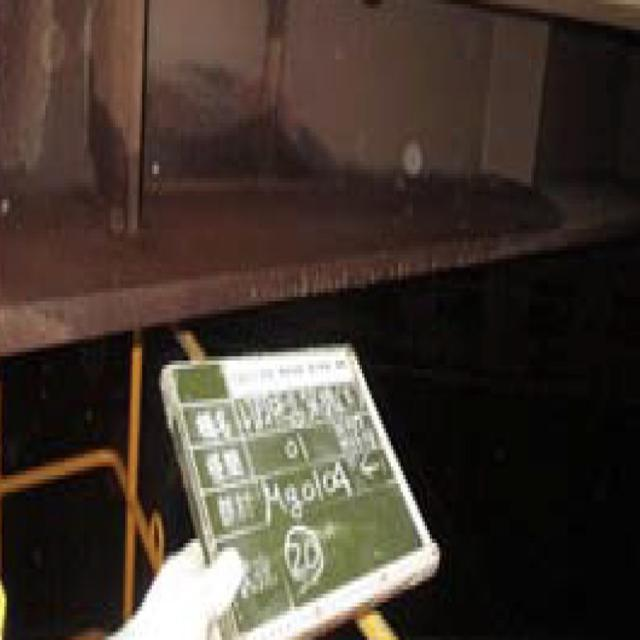leakage: (40, 84, 559, 324)
